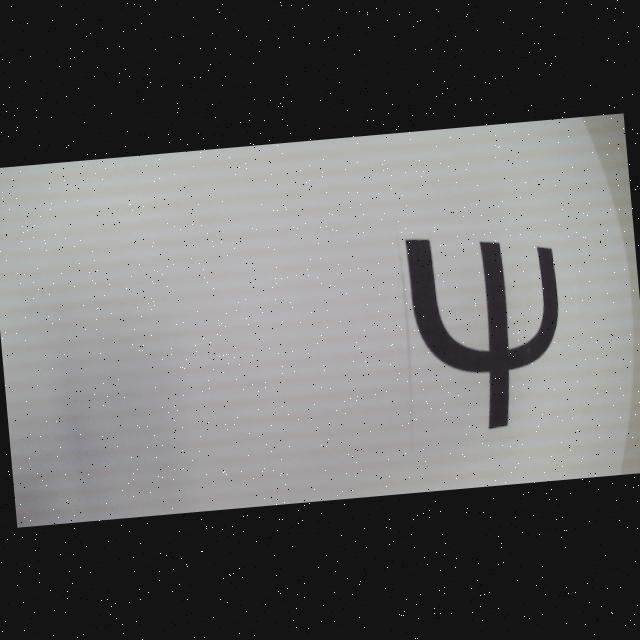PSI: (403, 226, 570, 435)
